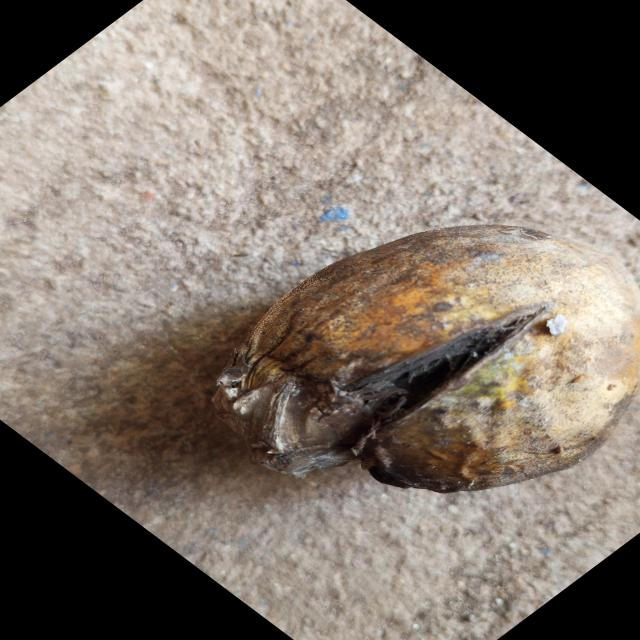damaged: (217, 222, 640, 494)
